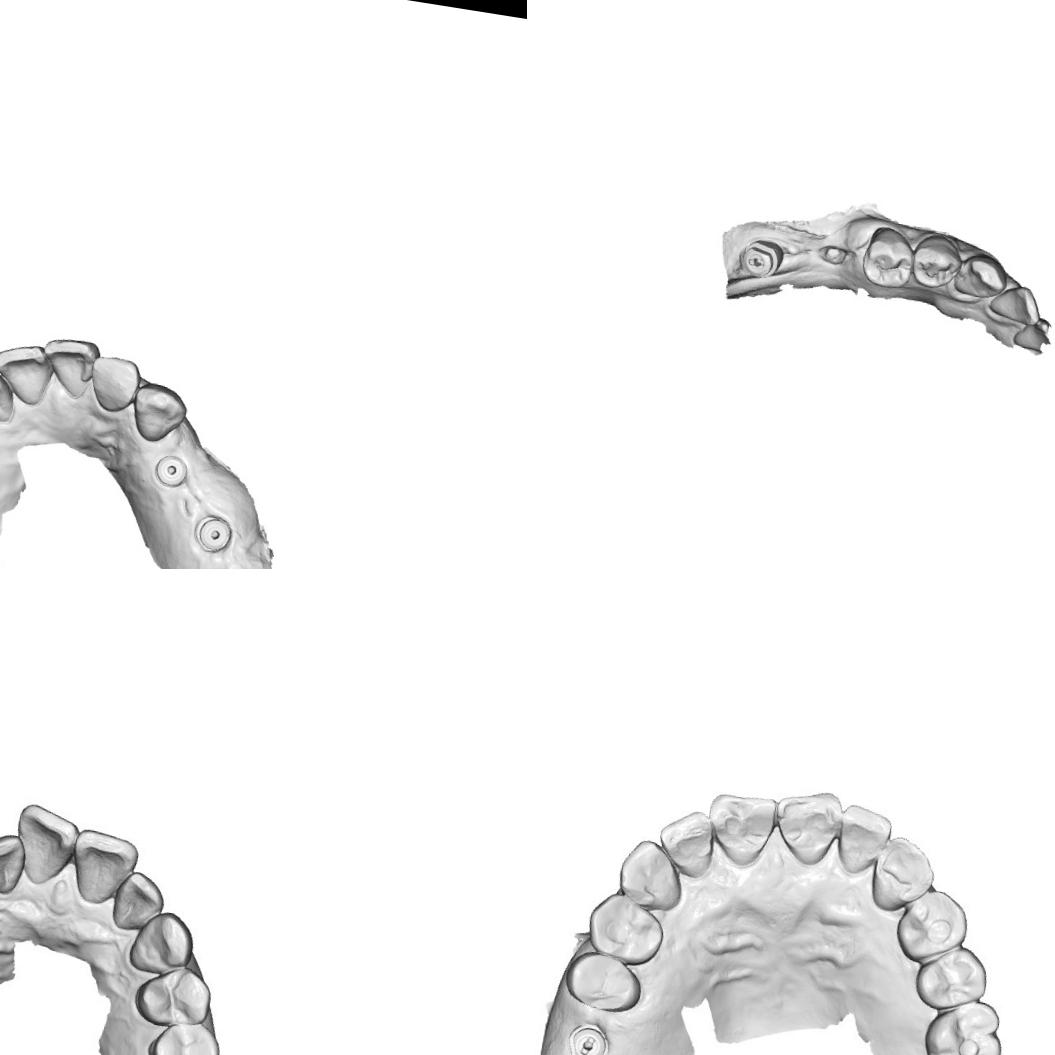canine: (611, 834, 692, 916), (869, 836, 937, 917), (126, 905, 198, 980), (128, 380, 191, 448), (950, 249, 1010, 301)
implant: (191, 510, 237, 556), (150, 451, 192, 492)
implant_minus: (562, 1017, 625, 1055), (736, 236, 785, 282)
incisor: (7, 800, 81, 892), (67, 825, 142, 912), (706, 790, 776, 864), (772, 786, 840, 862), (36, 332, 104, 402), (109, 867, 170, 937), (833, 801, 890, 875), (0, 336, 56, 409), (657, 808, 716, 873), (86, 352, 144, 415), (986, 280, 1044, 328), (0, 829, 32, 899), (0, 366, 19, 424)
molar: (917, 993, 1018, 1055)
premolar: (574, 891, 674, 966), (908, 938, 995, 1020), (892, 882, 975, 966), (560, 946, 650, 1021), (130, 958, 218, 1034), (856, 224, 920, 292), (907, 231, 964, 291), (142, 1015, 226, 1055)
